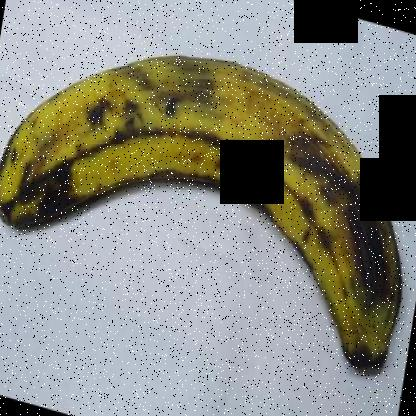overripe: (0, 42, 404, 380)
